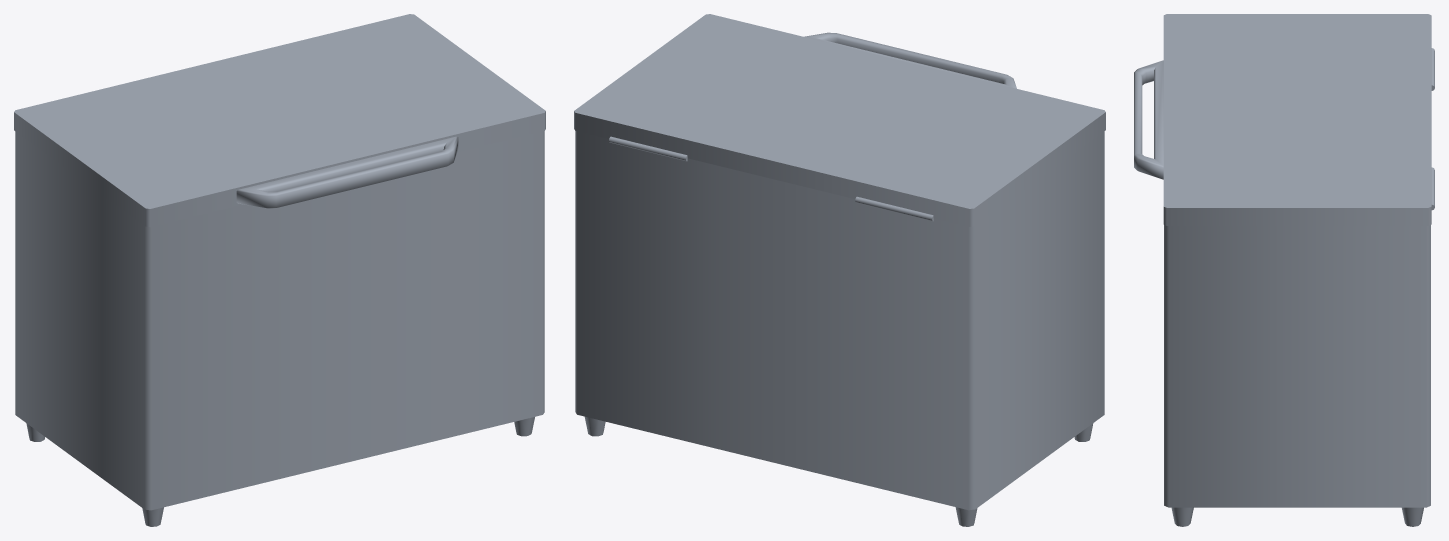
The model's file is Cooler Box.glb.
3 renders of one model, left to right at view 1: azimuth 30°, elevation 25°; view 2: azimuth 150°, elevation 25°; view 3: azimuth 270°, elevation 25°, orthographic.
Visible parts, largest first — view 1: appliance_cooler_box.001_Cube.255, appliance_cooler_box_lid_Cube.256; view 2: appliance_cooler_box.001_Cube.255, appliance_cooler_box_lid_Cube.256; view 3: appliance_cooler_box.001_Cube.255, appliance_cooler_box_lid_Cube.256.
Boxes of the visible parts, <box> form: appliance_cooler_box.001_Cube.255: <box>15,131,544,526</box>; appliance_cooler_box_lid_Cube.256: <box>14,14,545,227</box>; appliance_cooler_box.001_Cube.255: <box>575,131,1104,526</box>; appliance_cooler_box_lid_Cube.256: <box>574,14,1105,226</box>; appliance_cooler_box.001_Cube.255: <box>1164,48,1434,526</box>; appliance_cooler_box_lid_Cube.256: <box>1134,14,1431,225</box>.
Bounding box in the file's own units: 21.23 × 16.46 × 13.92.
Materials: 1 (1 with a texture image).
